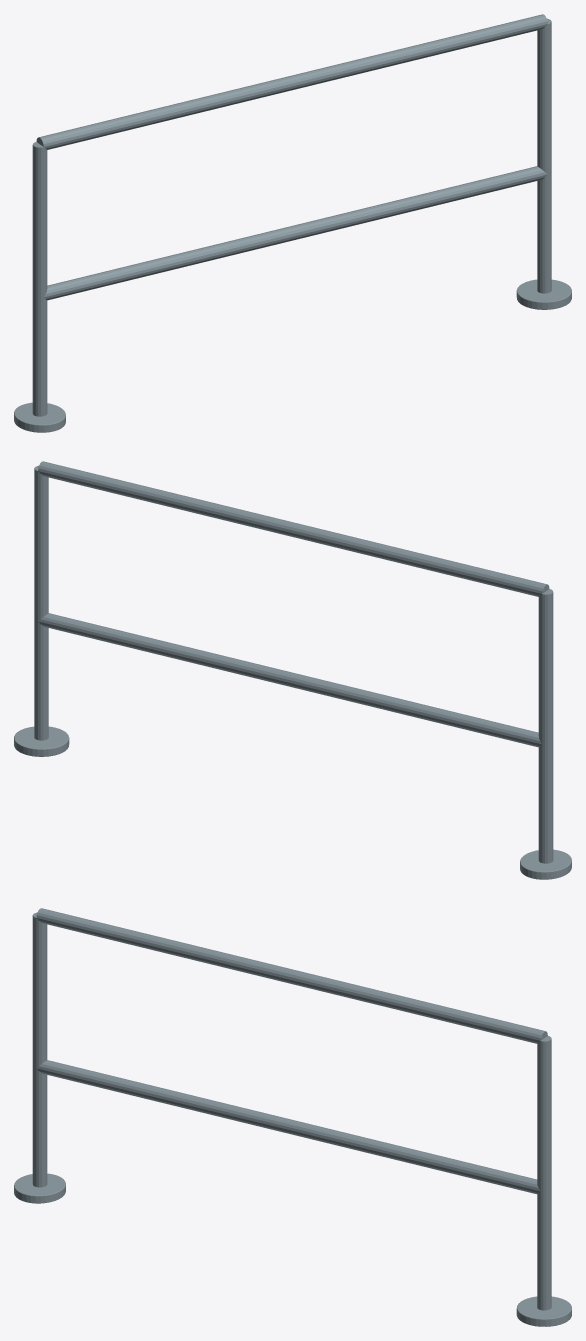
Rendered from edited.glb.
3 views of the same model, one above another, from view 1: azimuth 30°, elevation 25°; view 2: azimuth 150°, elevation 25°; view 3: azimuth 330°, elevation 25° (orthographic).
Parts seen in each view (by area): view 1: RAIL_Horizontal.001, RAIL_Horizontal, RAIL_Post, RAIL_Post.001, MOUNT_Foot.001, MOUNT_Foot; view 2: RAIL_Horizontal.001, RAIL_Horizontal, RAIL_Post, RAIL_Post.001, MOUNT_Foot.001, MOUNT_Foot; view 3: RAIL_Horizontal.001, RAIL_Horizontal, RAIL_Post, RAIL_Post.001, MOUNT_Foot.001, MOUNT_Foot.
Boxes of the visible parts, bbox=[...] form: RAIL_Horizontal.001: bbox=[36, 14, 547, 149]; RAIL_Horizontal: bbox=[44, 166, 547, 300]; RAIL_Post: bbox=[32, 142, 47, 416]; RAIL_Post.001: bbox=[537, 18, 551, 293]; MOUNT_Foot.001: bbox=[516, 279, 571, 309]; MOUNT_Foot: bbox=[14, 402, 65, 432]; RAIL_Horizontal.001: bbox=[38, 461, 549, 596]; RAIL_Horizontal: bbox=[38, 613, 541, 747]; RAIL_Post: bbox=[538, 589, 553, 863]; RAIL_Post.001: bbox=[34, 465, 48, 740]; MOUNT_Foot.001: bbox=[14, 726, 69, 756]; MOUNT_Foot: bbox=[520, 849, 571, 879]; RAIL_Horizontal.001: bbox=[36, 908, 547, 1043]; RAIL_Horizontal: bbox=[36, 1060, 540, 1194]; RAIL_Post: bbox=[32, 912, 47, 1187]; RAIL_Post.001: bbox=[537, 1036, 551, 1310]; MOUNT_Foot.001: bbox=[516, 1296, 571, 1326]; MOUNT_Foot: bbox=[14, 1173, 65, 1203].
Size of the model in its own units: 2.18 by 1.08 by 0.19.
